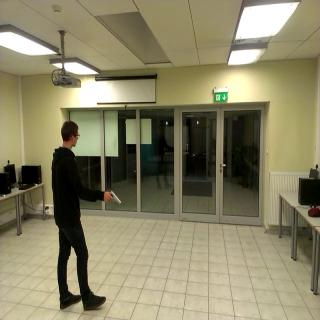gun: (102, 185, 122, 208)
